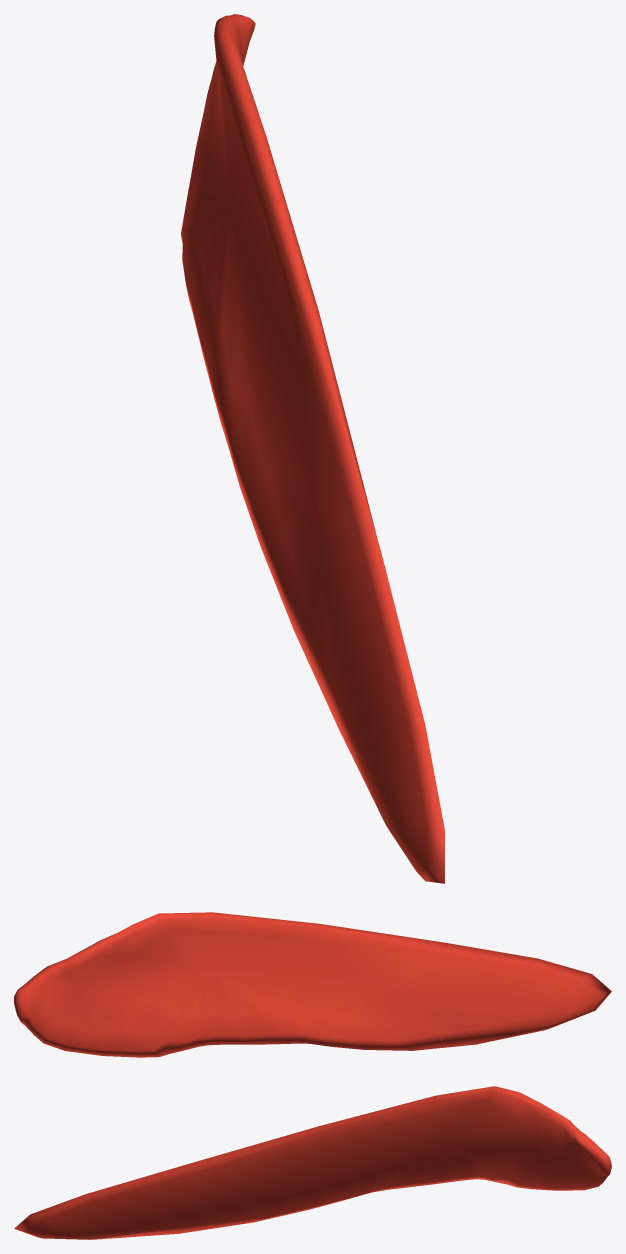
The model's file is Plantar_interossei_4th_metatarsal_right.glb.
3 renders of one model, top to bottom at view 1: azimuth 30°, elevation 25°; view 2: azimuth 150°, elevation 25°; view 3: azimuth 270°, elevation 25°, orthographic. The views are drawn at different scales.
Parts seen in each view (by area): view 1: Plantar_interossei_muscles_on_4th_metatarsal_bone.r_Generate; view 2: Plantar_interossei_muscles_on_4th_metatarsal_bone.r_Generate; view 3: Plantar_interossei_muscles_on_4th_metatarsal_bone.r_Generate.
Part boxes in pixels (x1,y1,x2,y2): Plantar_interossei_muscles_on_4th_metatarsal_bone.r_Generate: (181, 14, 444, 883); Plantar_interossei_muscles_on_4th_metatarsal_bone.r_Generate: (14, 912, 611, 1057); Plantar_interossei_muscles_on_4th_metatarsal_bone.r_Generate: (14, 1086, 611, 1239).
Size of the model in its own units: 0.00877 by 0.00909 by 0.0229.
